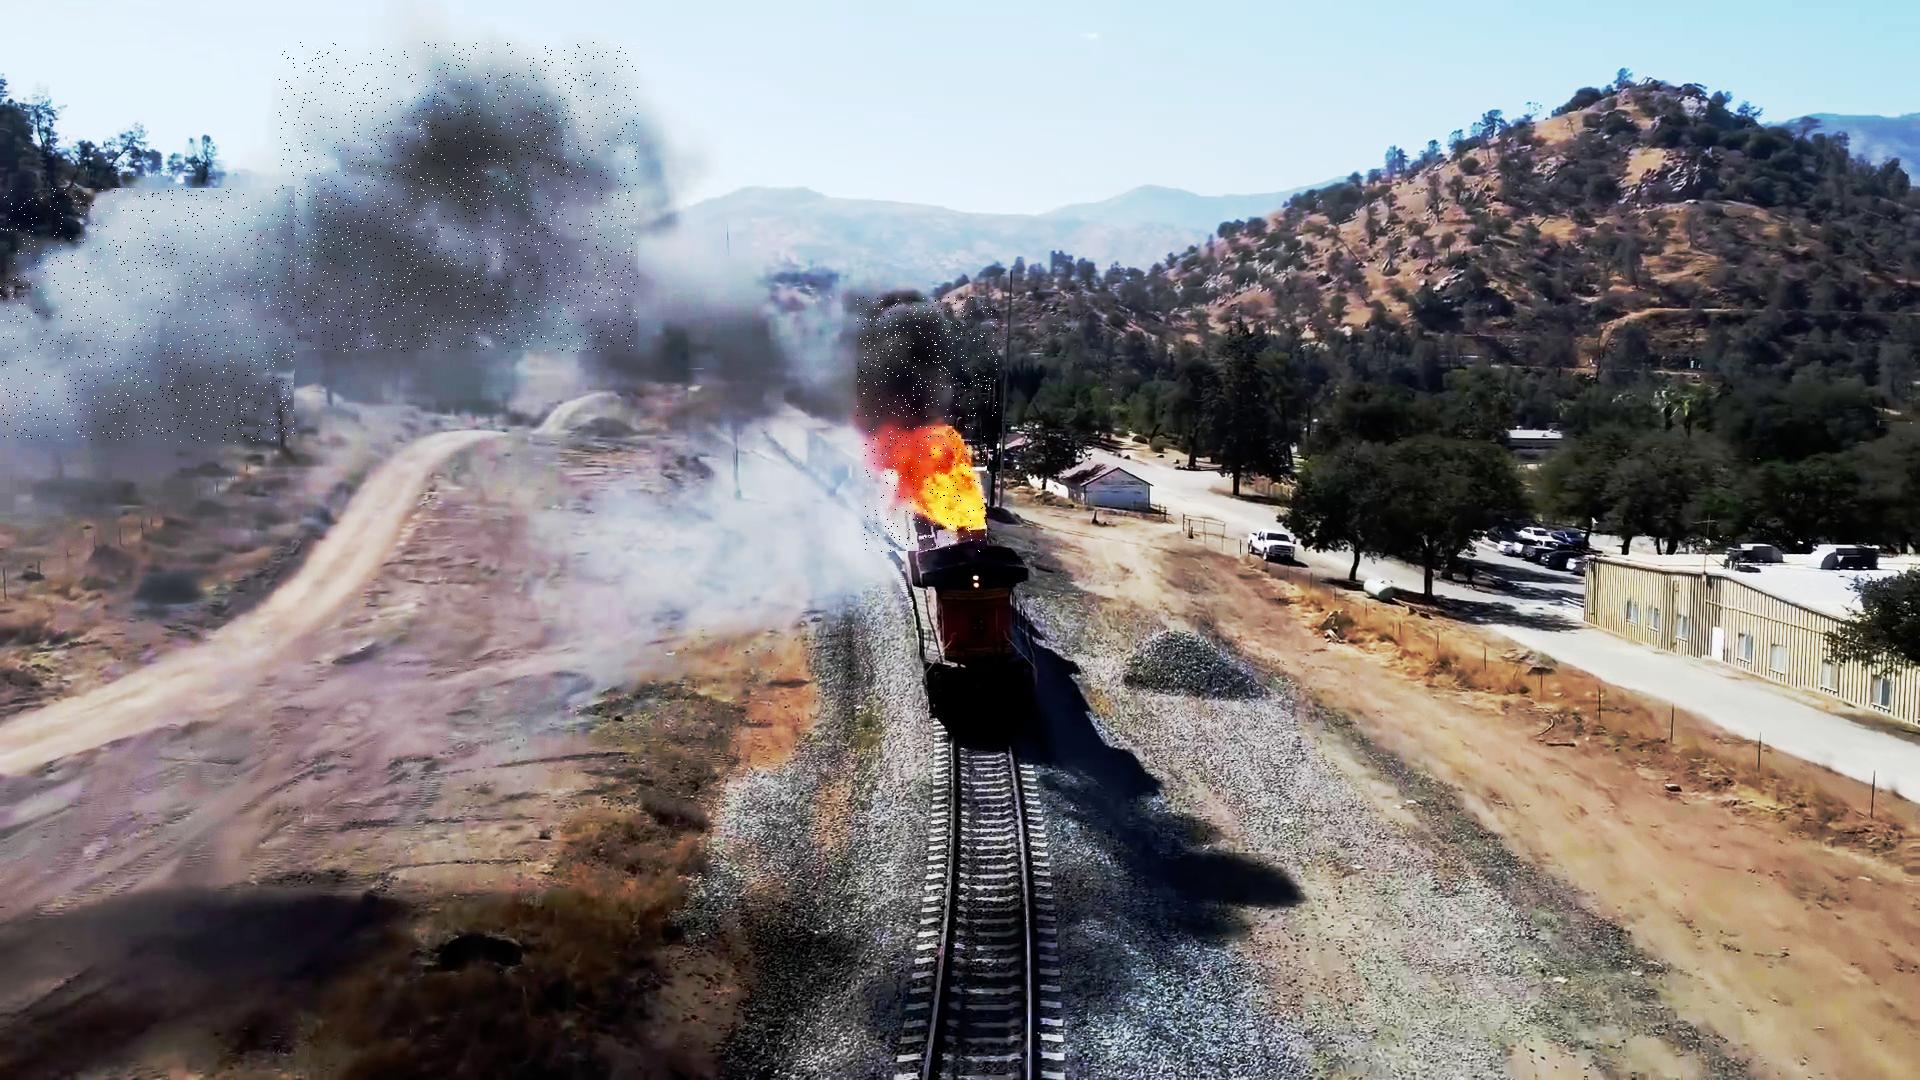fire: (863, 426, 987, 552)
smoke: (279, 43, 638, 353), (0, 188, 295, 442), (857, 297, 997, 417)
